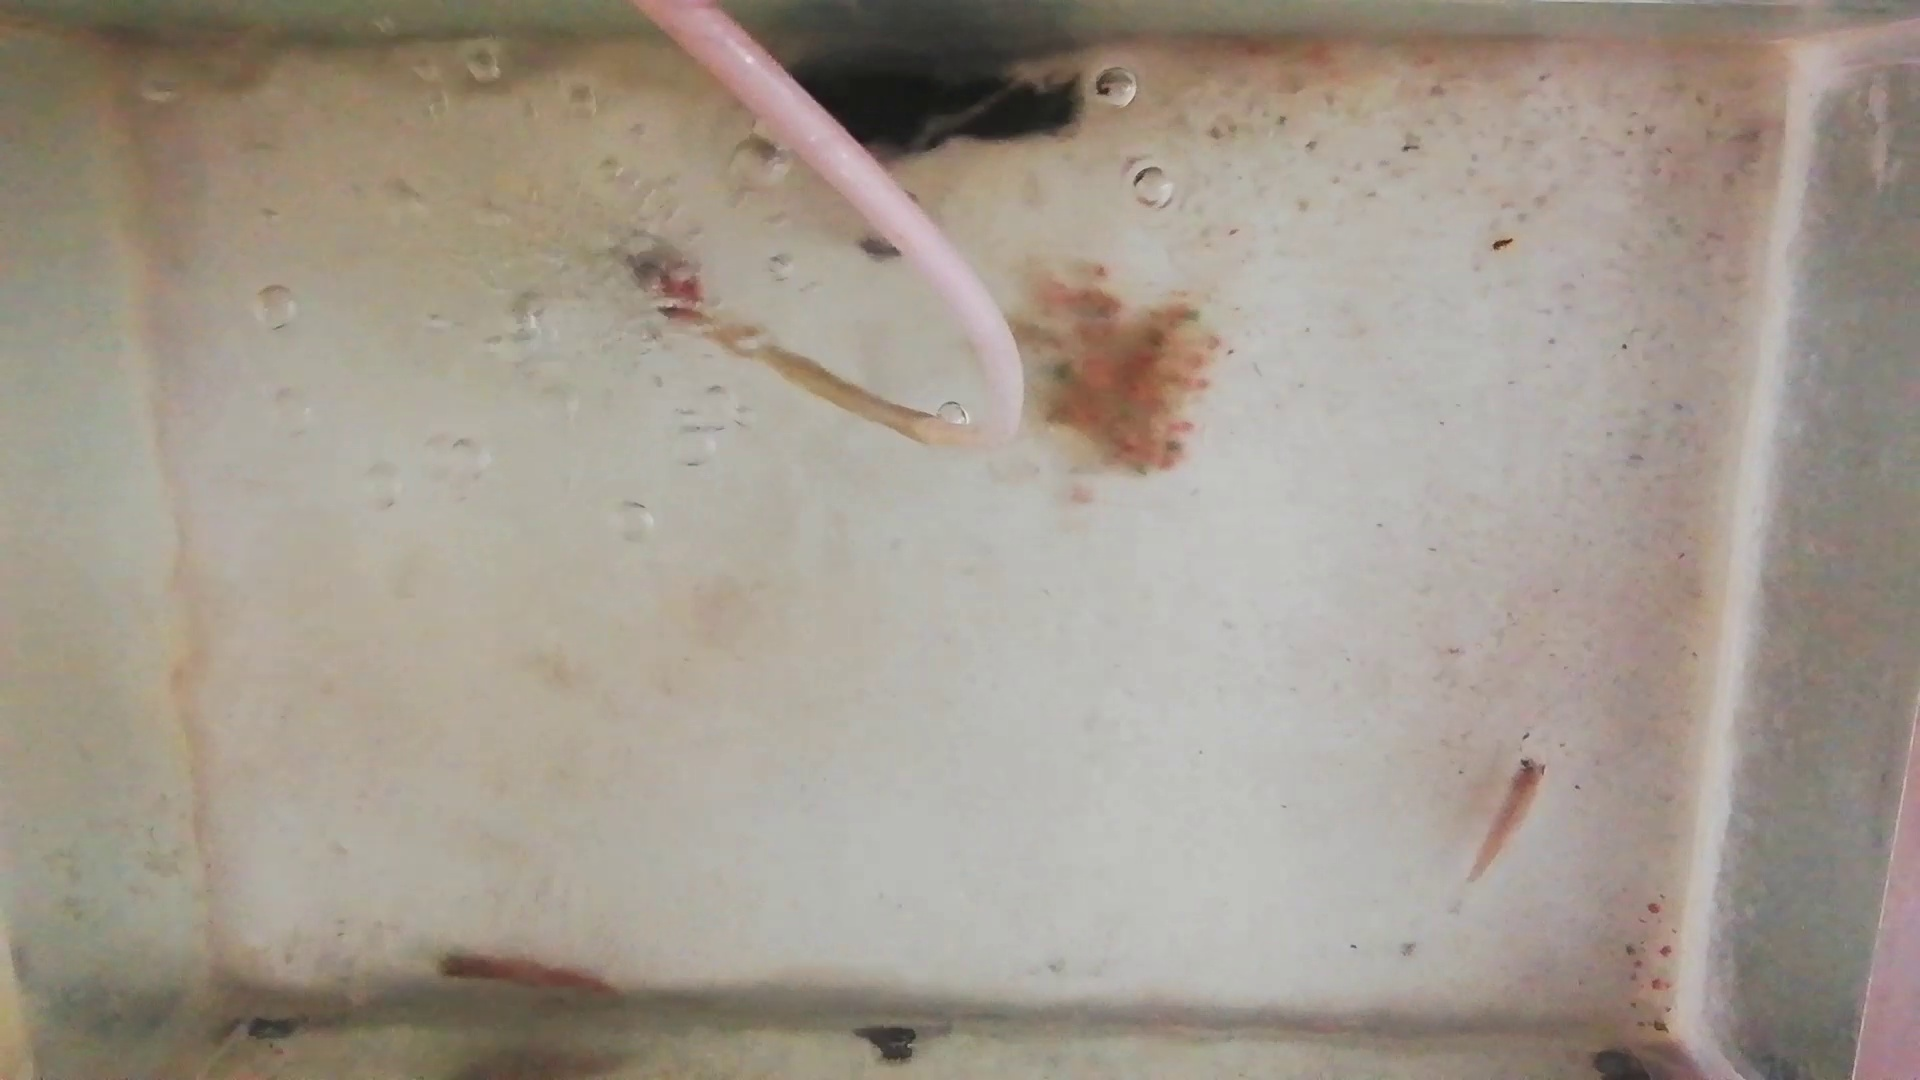fish: (1468, 760, 1545, 880), (436, 953, 613, 1000)
